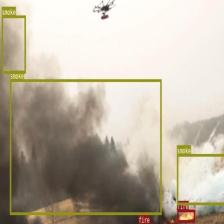fire: (177, 209, 195, 222)
smoke: (9, 79, 162, 214), (176, 154, 224, 204), (2, 15, 26, 73)
